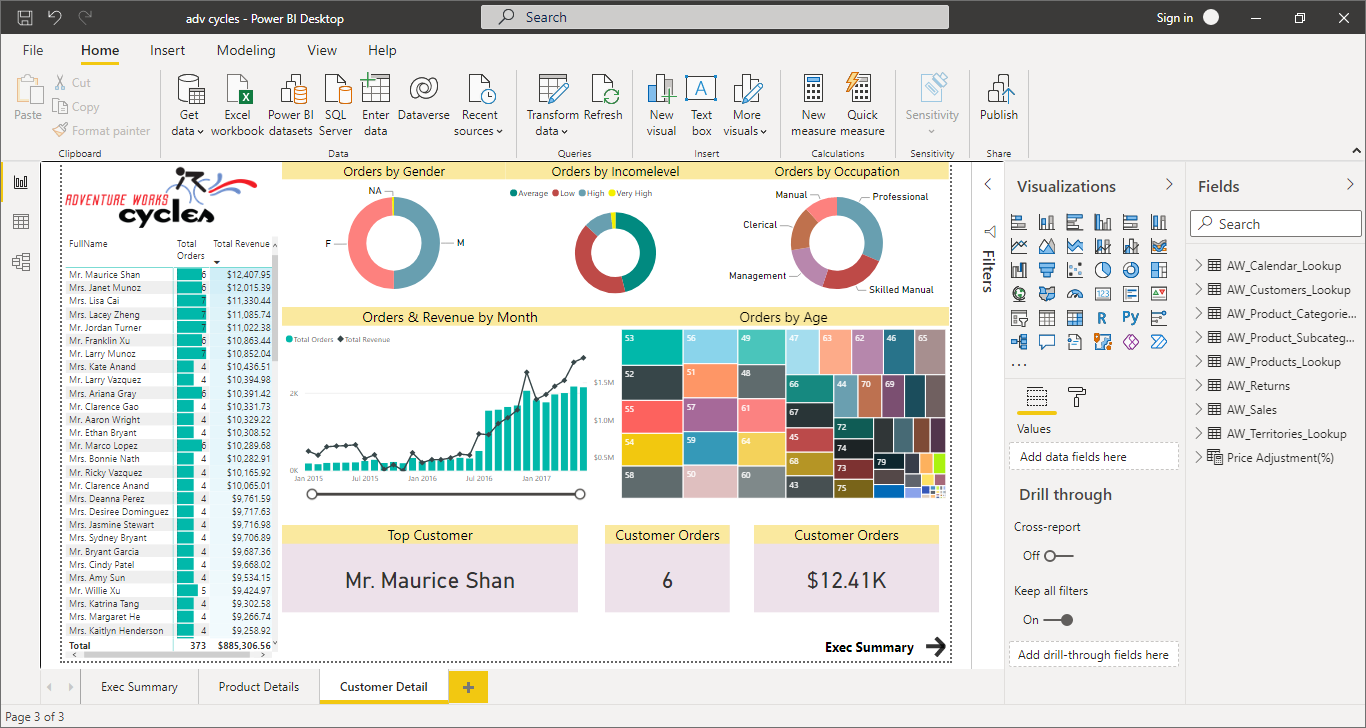

The dashboard page shown, as its layout file describes it:
{"tool":"powerbi","page":{"name":"Customer Detail","canvas":[1280,720],"ordinal":2},"visuals":[{"type":"image","box":[0,0,290,102.4],"z":0},{"type":"pivotTable","fields":{"Values":["AW_Sales.Total Orders","AW_Sales.Total Revenue"],"Rows":["AW_Customers_Lookup.FullName"]},"box":[0,102.4,317.4,617.6],"z":1000},{"type":"donutChart","title":"Orders by Gender","fields":{"Y":["AW_Sales.Total Orders"],"Category":["AW_Customers_Lookup.Gender"]},"box":[317.4,0,323.2,209.2],"z":2000},{"type":"donutChart","title":"Orders by Incomelevel","fields":{"Y":["AW_Sales.Total Orders"],"Category":["AW_Customers_Lookup.IncomeLevel"]},"box":[640.6,0,316,209.2],"z":3000},{"type":"donutChart","title":"Orders by Occupation","fields":{"Y":["AW_Sales.Total Orders"],"Category":["AW_Customers_Lookup.Occupation"]},"box":[956.6,0,323.2,209.2],"z":4000},{"type":"lineClusteredColumnComboChart","title":"Orders & Revenue by Month","fields":{"Y":["AW_Sales.Total Orders"],"Y2":["AW_Sales.Total Revenue"],"Category":["AW_Calendar_Lookup.Start of Month"]},"box":[317.4,209.2,484.8,281.4],"z":5000},{"type":"treemap","title":"Orders by Age","fields":{"Group":["AW_Customers_Lookup.Current Age"],"Values":["AW_Sales.Total Orders"]},"box":[802.2,209.2,477.6,281.4],"z":6000},{"type":"card","title":"Top Customer","fields":{"Values":["AW_Customers_Lookup.FullName"]},"box":[317.4,523.8,427.1,125.5],"z":7000},{"type":"card","title":"Customer Orders","fields":{"Values":["AW_Sales.Total Orders"]},"box":[783.5,523.8,180.4,125.5],"z":8000},{"type":"card","title":"Customer Orders","fields":{"Values":["AW_Sales.Total Revenue"]},"box":[998.5,523.8,266.9,125.5],"z":9000},{"type":"actionButton","box":[1087.9,679.6,191.9,40.4],"z":10000}]}

Visuals, with their boxes on the page's 1280x720 design canvas (x1, y1, x2, y2). These are canvas units, not pixel positions in the 1366x728 screenshot, which may show the page scaled, cropped or inside an application window:
image: box=[0, 0, 290, 102]
pivotTable - AW_Sales.Total Orders x AW_Sales.Total Revenue: box=[0, 102, 317, 720]
"Orders by Gender" donutChart: box=[317, 0, 641, 209]
"Orders by Incomelevel" donutChart: box=[641, 0, 957, 209]
"Orders by Occupation" donutChart: box=[957, 0, 1280, 209]
"Orders & Revenue by Month" lineClusteredColumnComboChart: box=[317, 209, 802, 491]
"Orders by Age" treemap: box=[802, 209, 1280, 491]
"Top Customer" card: box=[317, 524, 744, 649]
"Customer Orders" card: box=[784, 524, 964, 649]
"Customer Orders" card: box=[998, 524, 1265, 649]
actionButton: box=[1088, 680, 1280, 720]
